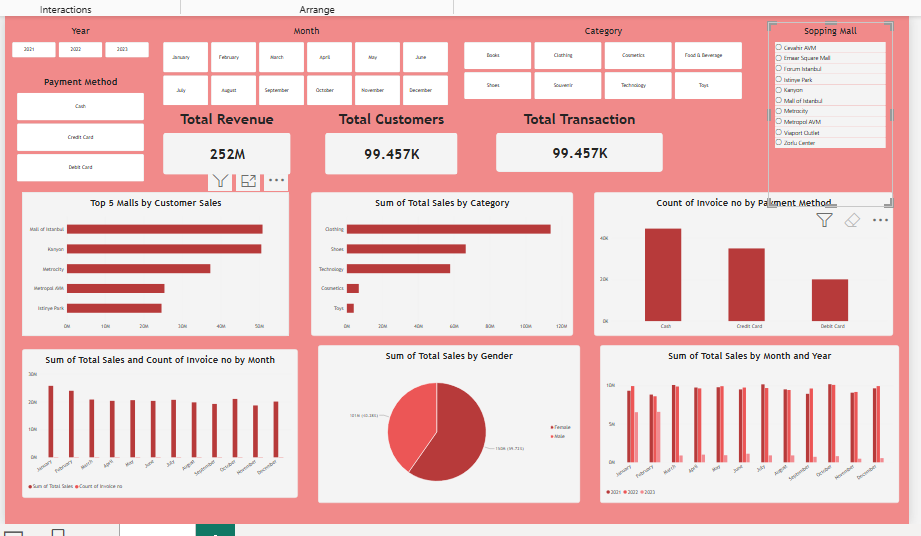

What the dashboard file says about the page in this screenshot:
{"tool":"powerbi","page":{"name":"Page 1","canvas":[2560,1440],"ordinal":0},"visuals":[{"type":"clusteredBarChart","title":"Top 5 Malls by Customer Sales","fields":{"Category":["customer_shopping_data.Sopping Mall"],"Y":["Sum(customer_shopping_data.Total Sales)"]},"box":[48.2,499.8,756.9,408.2],"z":0},{"type":"clusteredBarChart","fields":{"Category":["customer_shopping_data.Category"],"Y":["Sum(customer_shopping_data.Total Sales)"]},"box":[866,499.8,742.7,408.2],"z":1000},{"type":"clusteredColumnChart","fields":{"Category":["customer_shopping_data.Payment Method"],"Y":["CountNonNull(customer_shopping_data.Invoice no)"]},"box":[1669.6,499.8,847.6,408.2],"z":2000},{"type":"clusteredColumnChart","fields":{"Category":["customer_shopping_data.Invoice Date.Variation.Date Hierarchy.Month"],"Y":["Sum(customer_shopping_data.Total Sales)","CountNonNull(customer_shopping_data.Invoice no)"]},"box":[48.2,943.9,782.4,422.4],"z":3000},{"type":"pieChart","fields":{"Category":["customer_shopping_data.Gender"],"Y":["Sum(customer_shopping_data.Total Sales)"]},"box":[887.2,932.6,742.7,447.9],"z":4000},{"type":"clusteredColumnChart","fields":{"Category":["customer_shopping_data.Invoice Date.Variation.Date Hierarchy.Month"],"Series":["customer_shopping_data.Invoice Date.Variation.Date Hierarchy.Year"],"Y":["Sum(customer_shopping_data.Total Sales)"]},"box":[1686.6,932.6,847.6,447.9],"z":5000},{"type":"advancedSlicerVisual","fields":{"Values":["customer_shopping_data.Invoice Date.Variation.Date Hierarchy.Year"]},"box":[0,17,428,121.9],"z":6000},{"type":"advancedSlicerVisual","fields":{"Values":["customer_shopping_data.Invoice Date.Variation.Date Hierarchy.Month"]},"box":[428,17,853.2,258],"z":7000},{"type":"advancedSlicerVisual","fields":{"Values":["customer_shopping_data.Category"]},"box":[1281.3,17,830.6,240.9],"z":8000},{"type":"advancedSlicerVisual","fields":{"Values":["customer_shopping_data.Payment Method"]},"box":[34,170.1,360,300.5],"z":9000},{"type":"listSlicer","fields":{"Values":["customer_shopping_data.Sopping Mall"]},"box":[2162.8,17,354.3,524.4],"z":10000},{"type":"cardVisual","title":"Total Revenue","fields":{"Data":["Sum(customer_shopping_data.Total Sales)"]},"box":[428,258,402.5,212.6],"z":11000},{"type":"cardVisual","title":"Total Customers","fields":{"Data":["CountNonNull(customer_shopping_data.Customer ID)"]},"box":[887.2,258,416.7,212.6],"z":12000},{"type":"cardVisual","title":"Total Transaction","fields":{"Data":["CountNonNull(customer_shopping_data.Invoice no)"]},"box":[1372,258,513.1,204.1],"z":13000}]}

Visuals, with their boxes on the page's 2560x1440 design canvas (x1, y1, x2, y2). These are canvas units, not pixel positions in the 921x536 screenshot, which may show the page scaled, cropped or inside an application window:
"Top 5 Malls by Customer Sales" clusteredBarChart: detection(48, 500, 805, 908)
clusteredBarChart - customer_shopping_data.Category x Sum(customer_shopping_data.Total Sales): detection(866, 500, 1609, 908)
clusteredColumnChart - customer_shopping_data.Payment Method x CountNonNull(customer_shopping_data.Invoice no): detection(1670, 500, 2517, 908)
clusteredColumnChart - customer_shopping_data.Invoice Date.Variation.Date Hierarchy.Month x Sum(customer_shopping_data.Total Sales): detection(48, 944, 831, 1366)
pieChart - customer_shopping_data.Gender x Sum(customer_shopping_data.Total Sales): detection(887, 933, 1630, 1380)
clusteredColumnChart - customer_shopping_data.Invoice Date.Variation.Date Hierarchy.Month x customer_shopping_data.Invoice Date.Variation.Date Hierarchy.Year: detection(1687, 933, 2534, 1380)
advancedSlicerVisual - customer_shopping_data.Invoice Date.Variation.Date Hierarchy.Year: detection(0, 17, 428, 139)
advancedSlicerVisual - customer_shopping_data.Invoice Date.Variation.Date Hierarchy.Month: detection(428, 17, 1281, 275)
advancedSlicerVisual - customer_shopping_data.Category: detection(1281, 17, 2112, 258)
advancedSlicerVisual - customer_shopping_data.Payment Method: detection(34, 170, 394, 471)
listSlicer - customer_shopping_data.Sopping Mall: detection(2163, 17, 2517, 541)
"Total Revenue" cardVisual: detection(428, 258, 830, 471)
"Total Customers" cardVisual: detection(887, 258, 1304, 471)
"Total Transaction" cardVisual: detection(1372, 258, 1885, 462)
